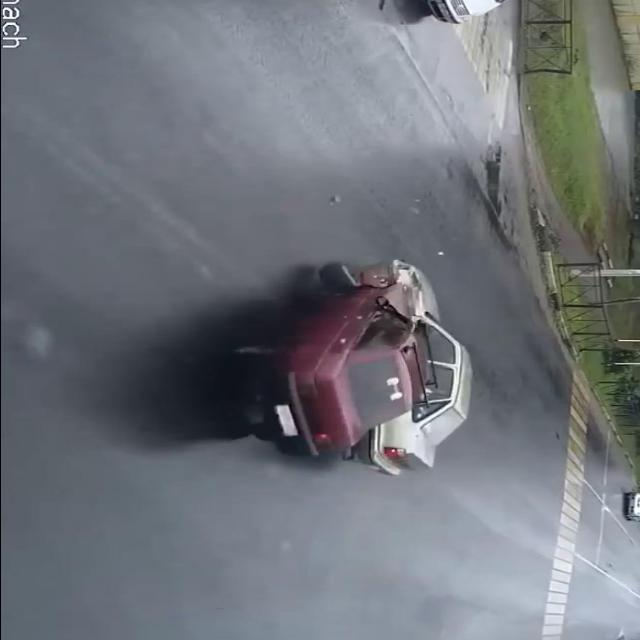accident: (196, 255, 490, 482)
